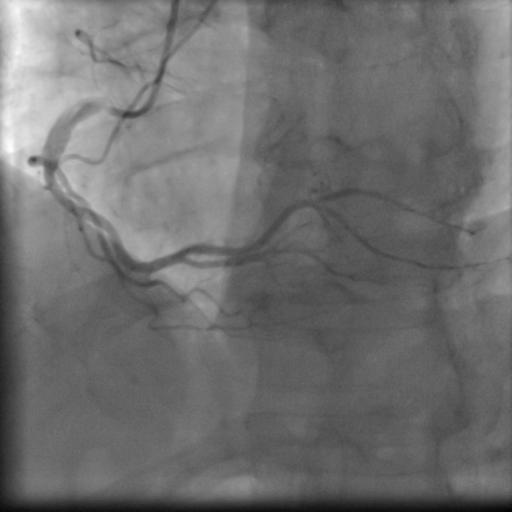Stenosis: (41, 168, 59, 188)
